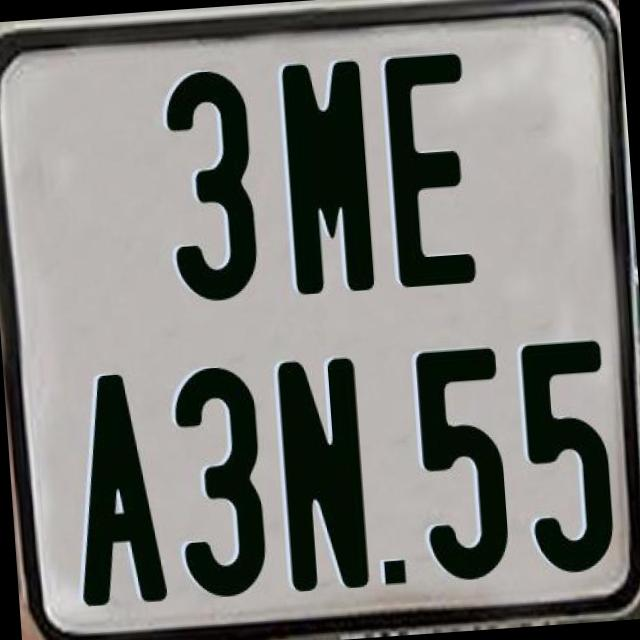3: (172, 360, 274, 600), (162, 66, 260, 306)
5: (413, 344, 516, 584), (516, 334, 616, 578)
A: (65, 369, 165, 609)
E: (380, 47, 480, 286)
M: (280, 59, 374, 296)
N: (272, 356, 371, 598)
